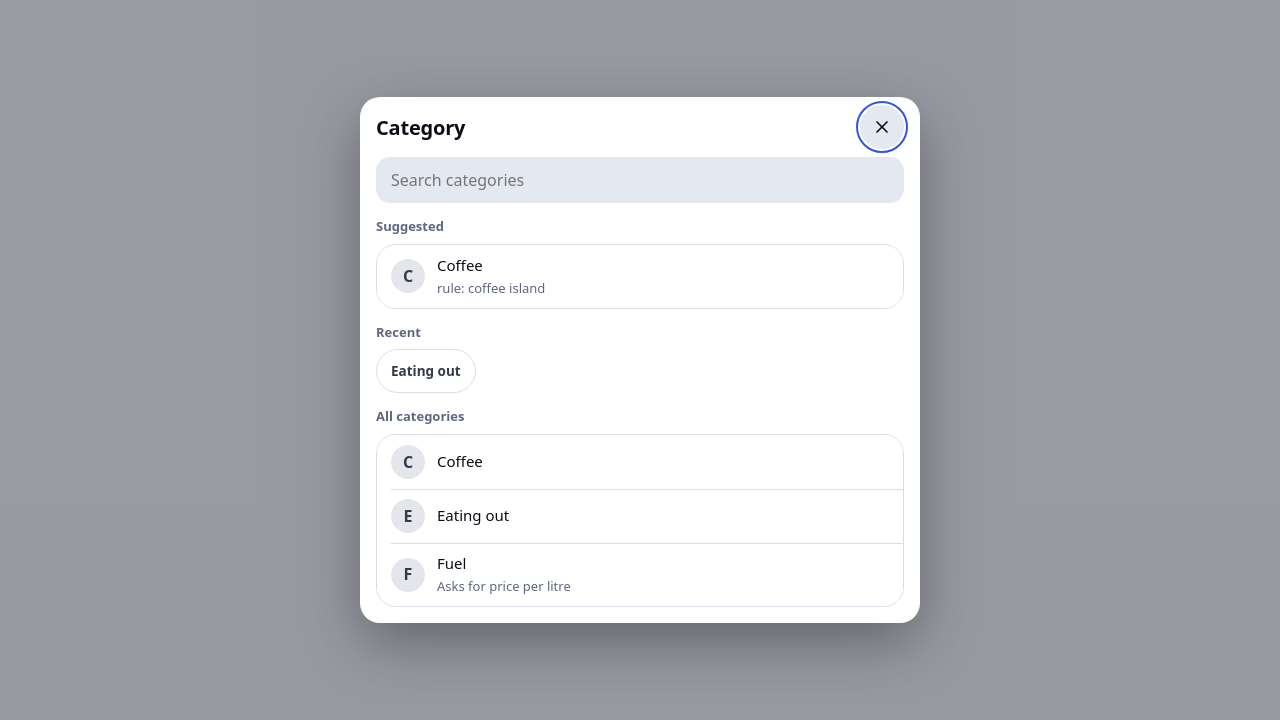
it: category: suggested with its reason, recent, all, fuel hint, accent-free search
Expected: the heading "Suggested" is shown, [376,217,444,235]
Expected: the text "rule: coffee island" is shown, [437,279,545,297]
Type "FU" into the search field labelled "Search categories" at (640, 180), box [376,157,904,203]
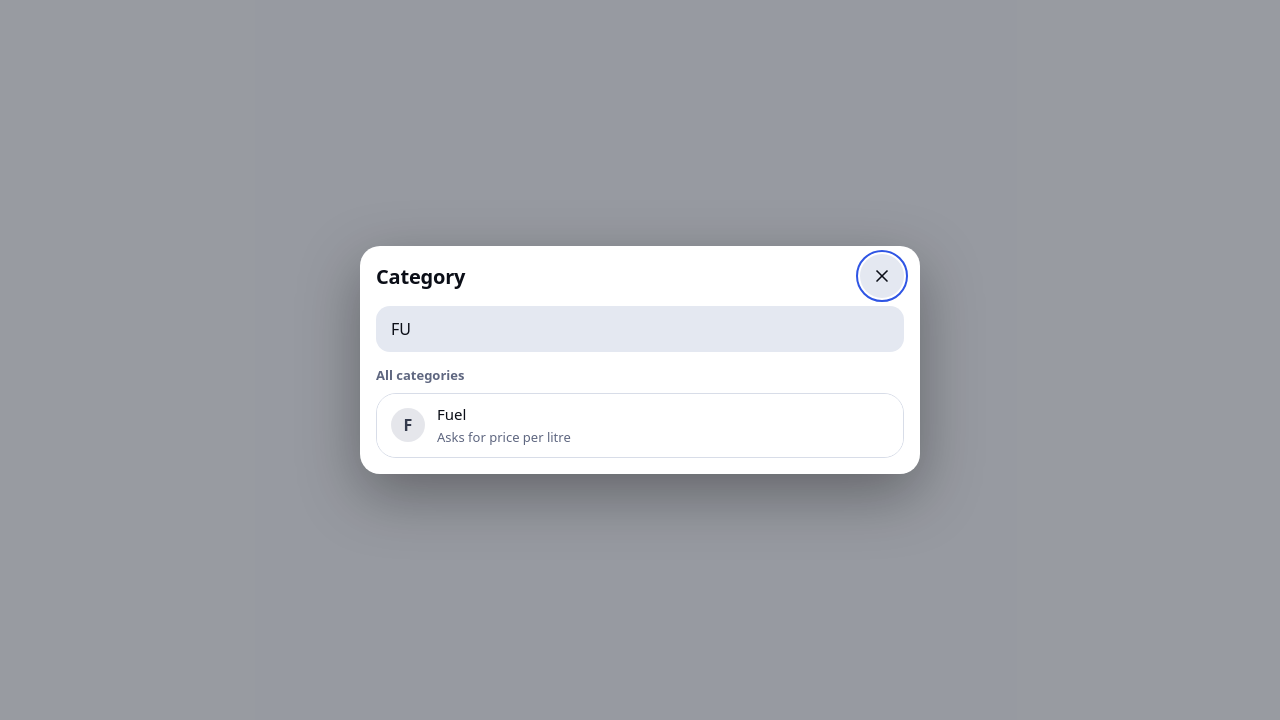
Expected: the button "F Fuel Asks for price per litre" is shown, [377,394,903,457]
Expected: the button "Coffee" is gone
